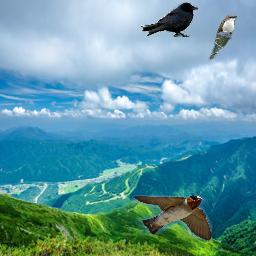Crow: (141, 2, 198, 37)
Cuckoo: (208, 14, 237, 60)
Swallow: (132, 195, 212, 241)
